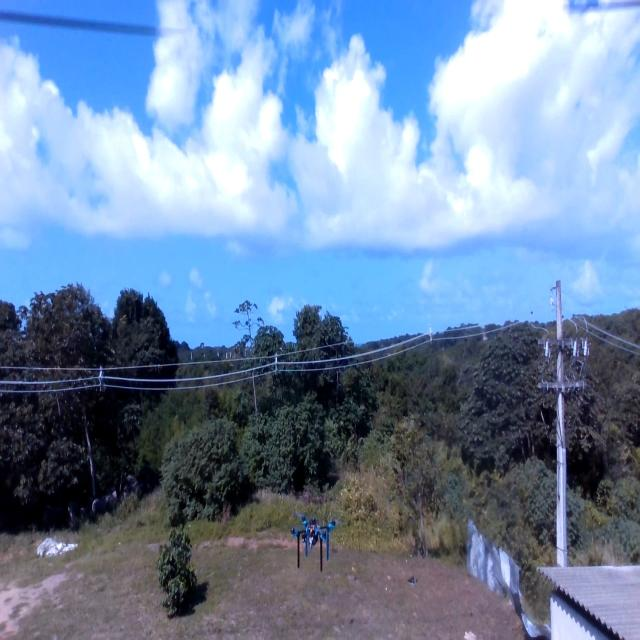-uav-: (286, 499, 344, 577)
